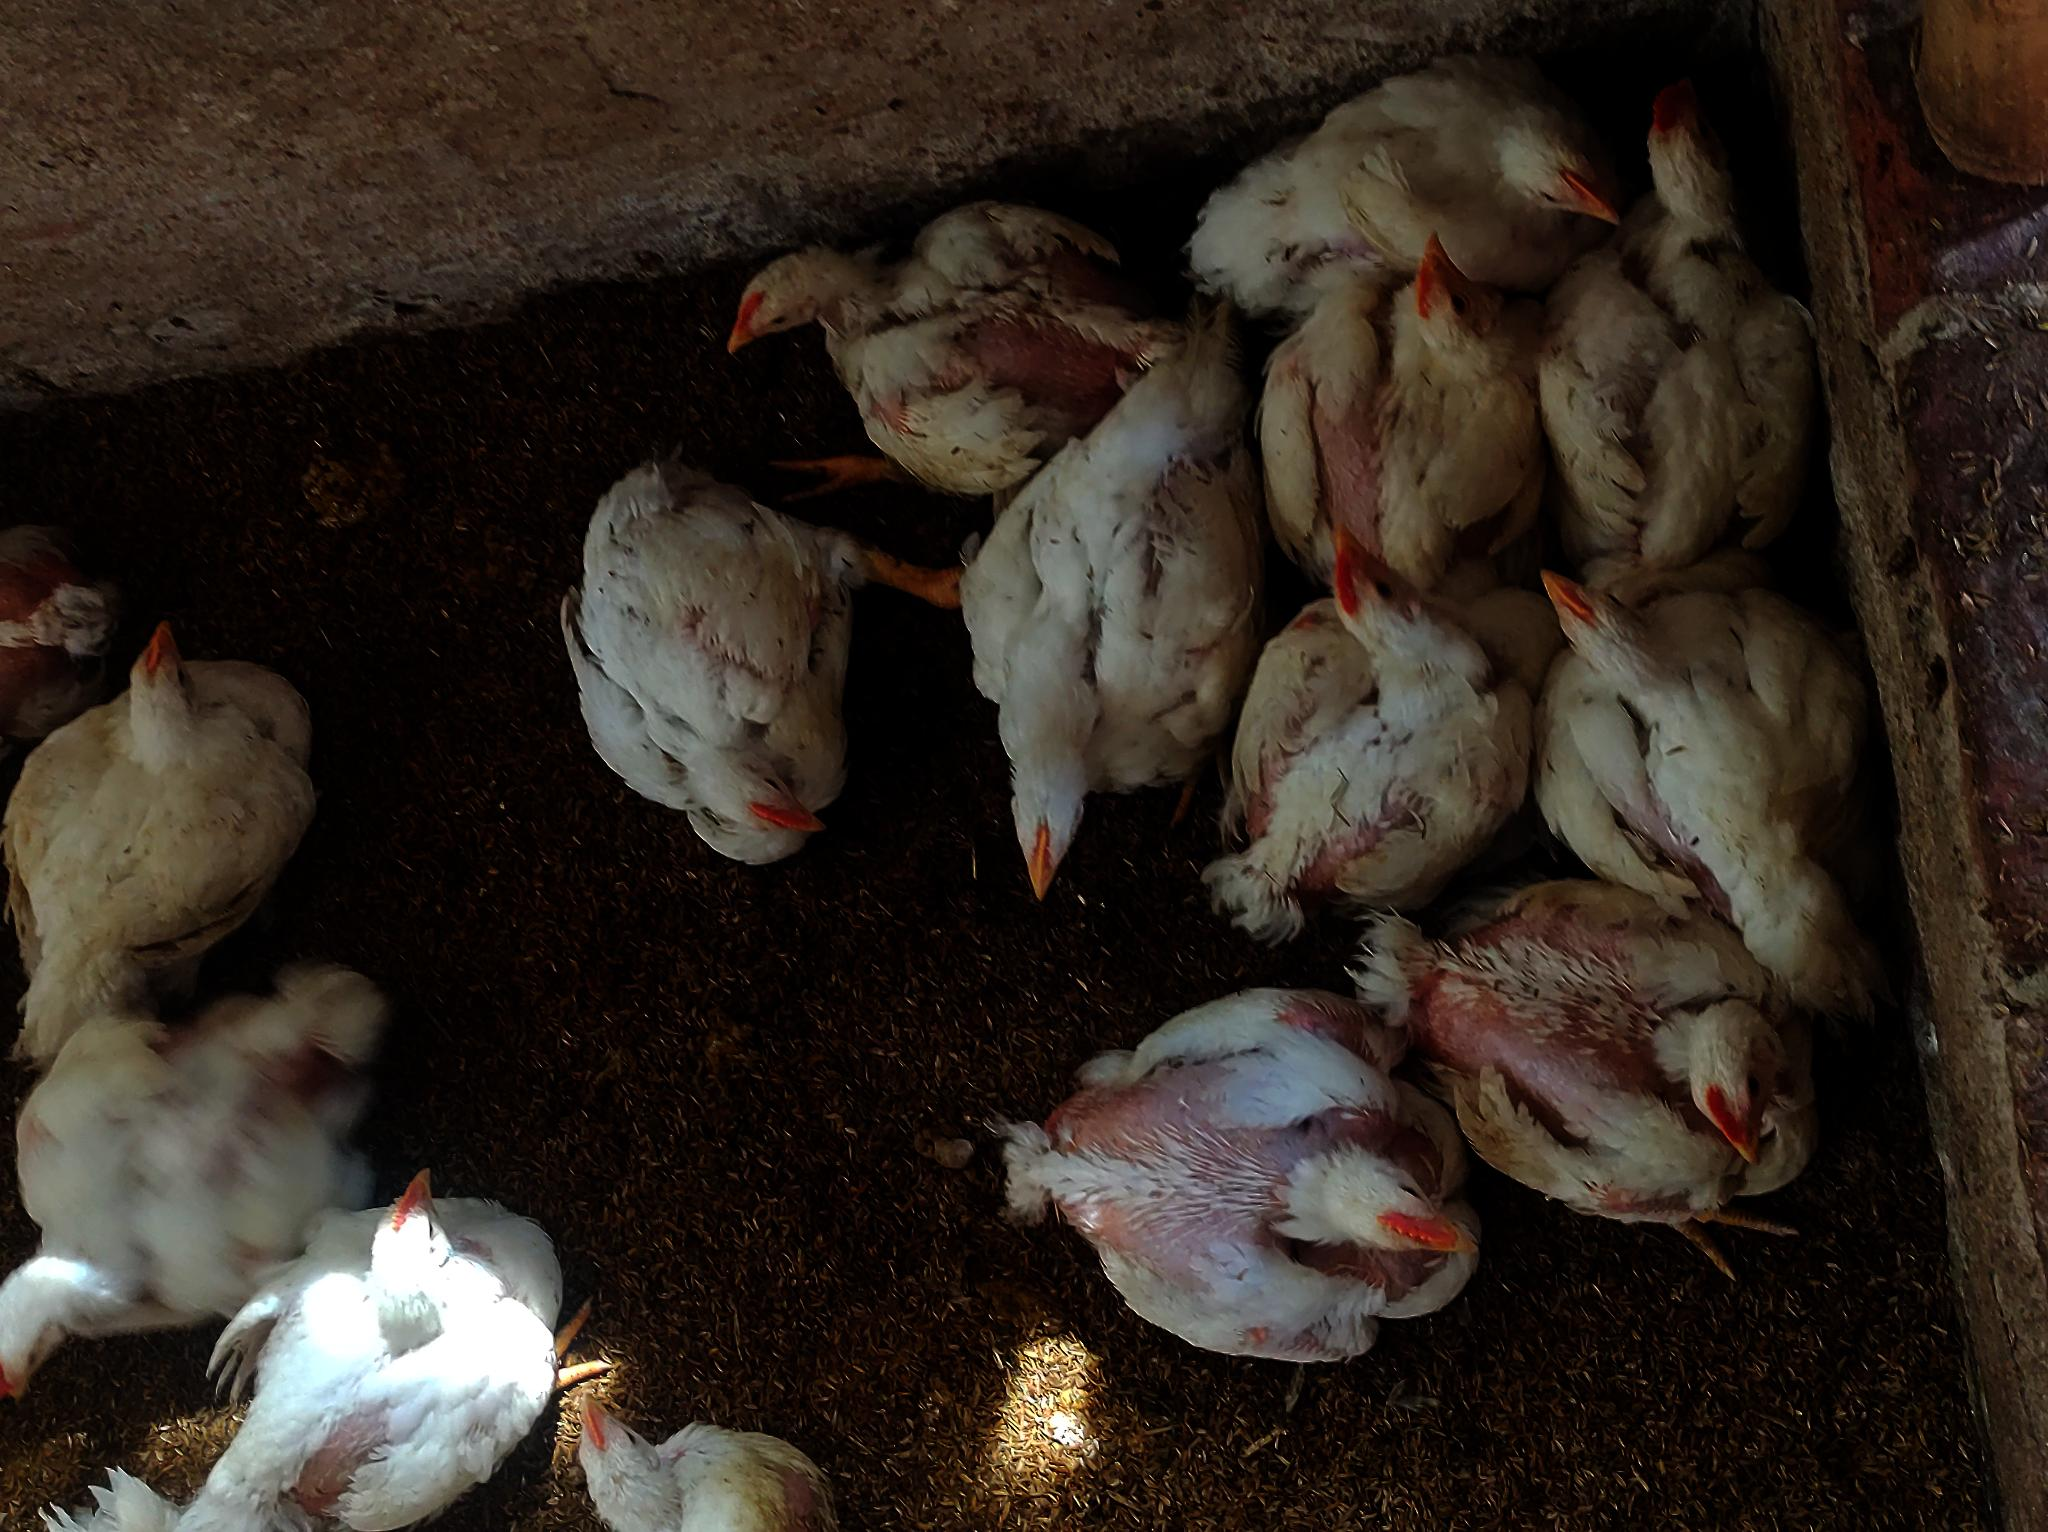Pollos: (621, 154, 1289, 563), (0, 937, 426, 1415), (964, 328, 1273, 890), (1060, 961, 1451, 1402), (1483, 859, 1829, 1297), (0, 652, 376, 1041), (504, 451, 856, 834), (1236, 534, 1525, 983), (241, 1180, 565, 1532), (1569, 92, 1810, 558), (1565, 558, 1874, 920), (1298, 229, 1528, 581), (547, 1320, 874, 1532)
